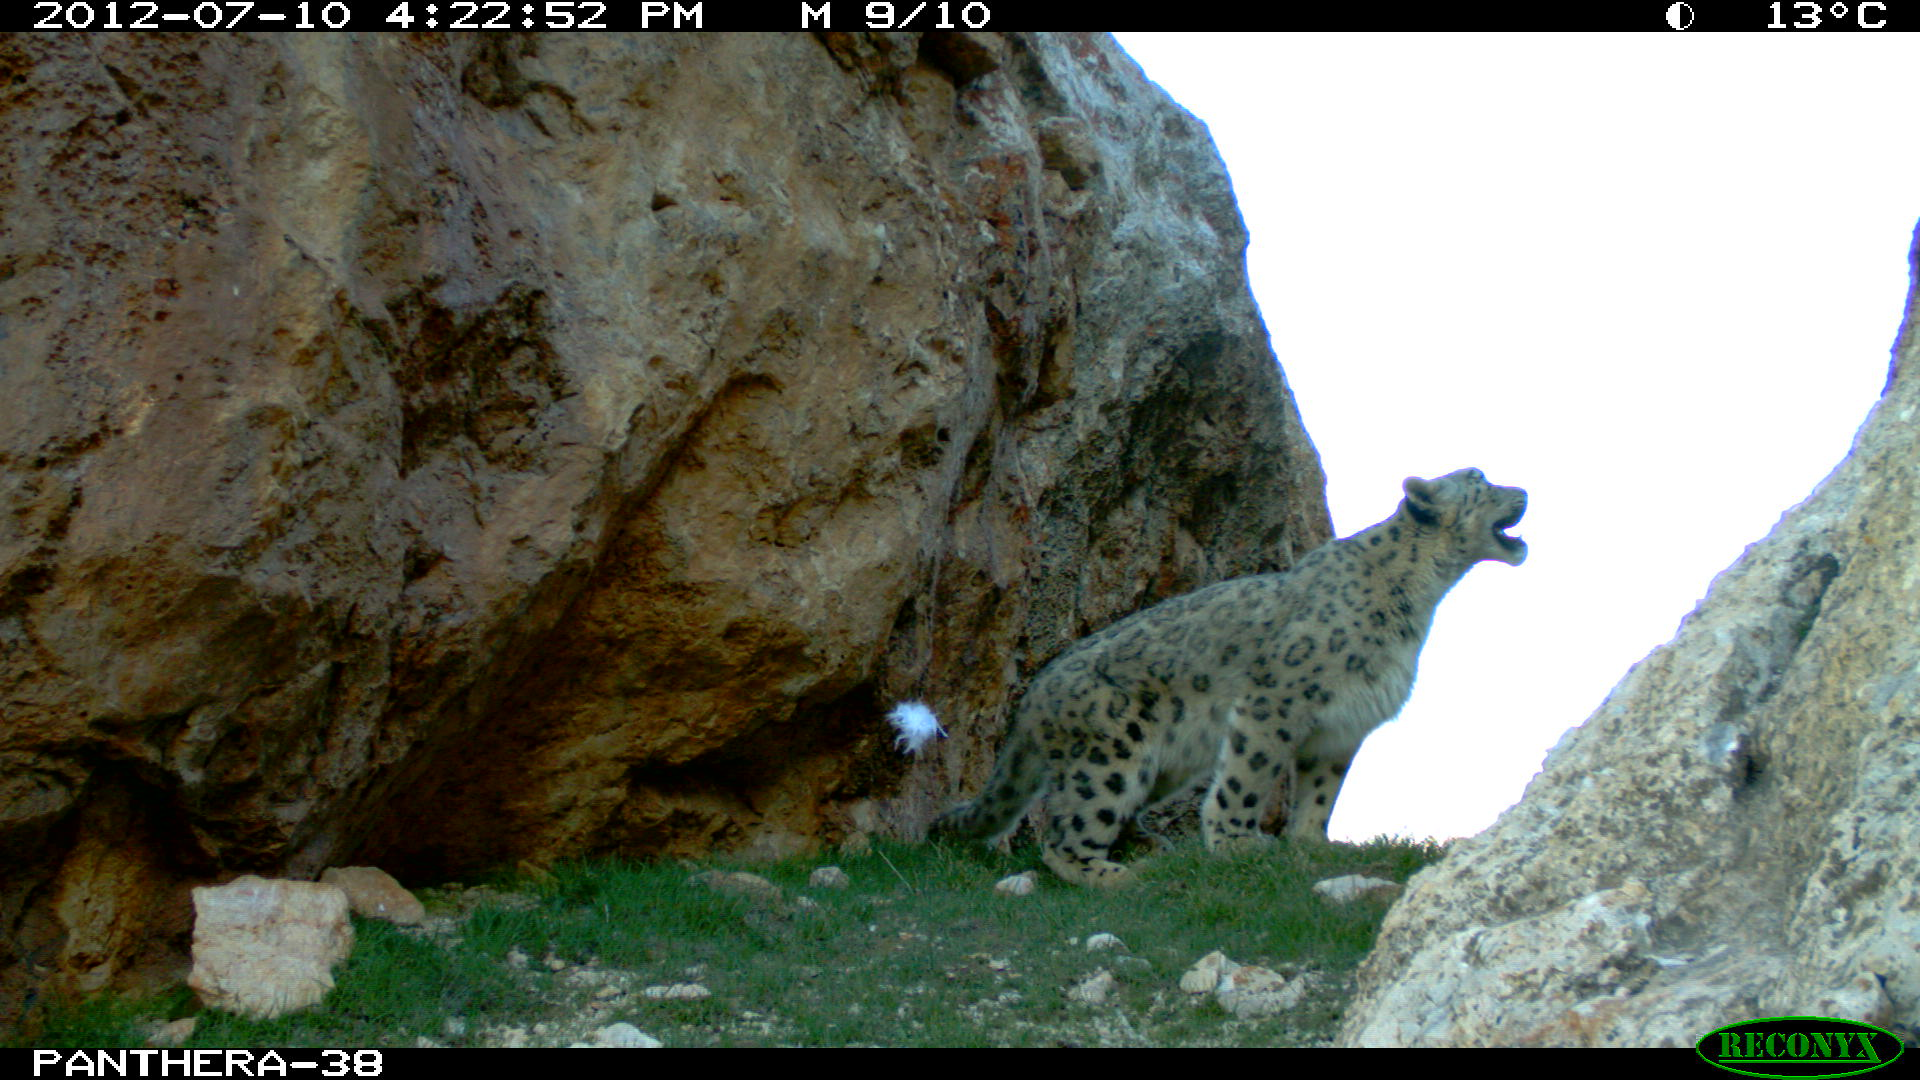Leopard: (915, 446, 1553, 902)
